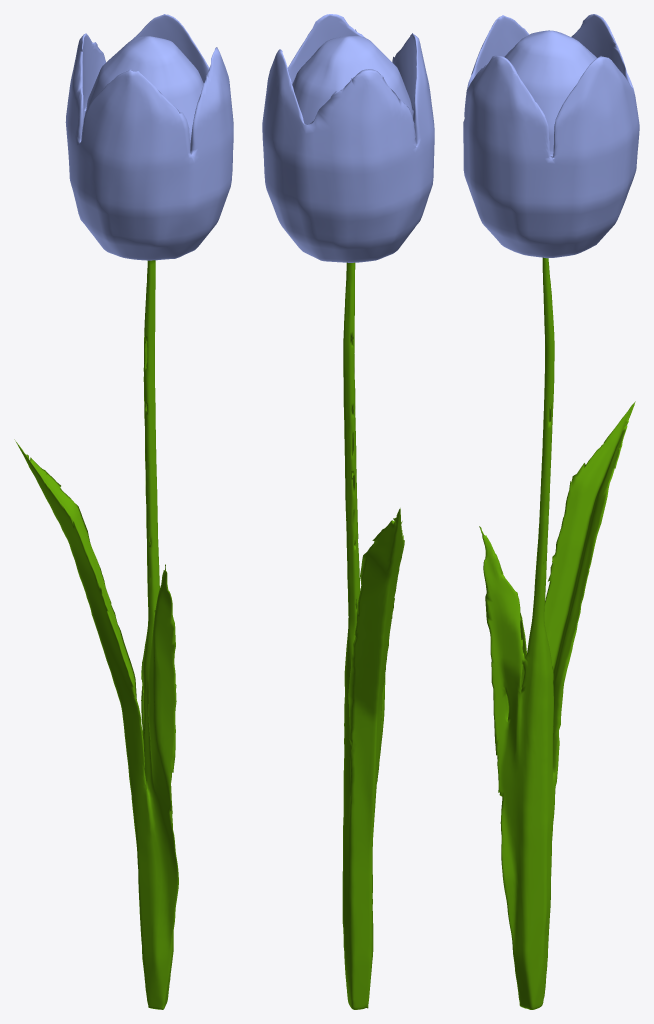
File: blue2.glb
3 renders of one model, left to right at view 1: azimuth 30°, elevation 25°; view 2: azimuth 150°, elevation 25°; view 3: azimuth 270°, elevation 25°, orthographic.
Visible parts, largest first — view 1: tulip_blue; view 2: tulip_blue; view 3: tulip_blue.
Boxes of the visible parts, x1,y1,x2,y2 form: tulip_blue: (14,14,233,1009); tulip_blue: (262,14,434,1009); tulip_blue: (463,14,639,1009).
Size of the model in its own units: 0.303 by 1.7 by 0.278.
